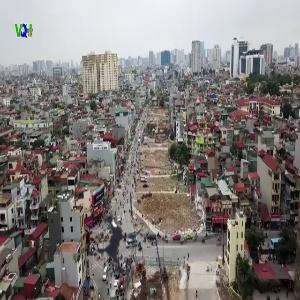drone: (68, 190, 175, 297)
